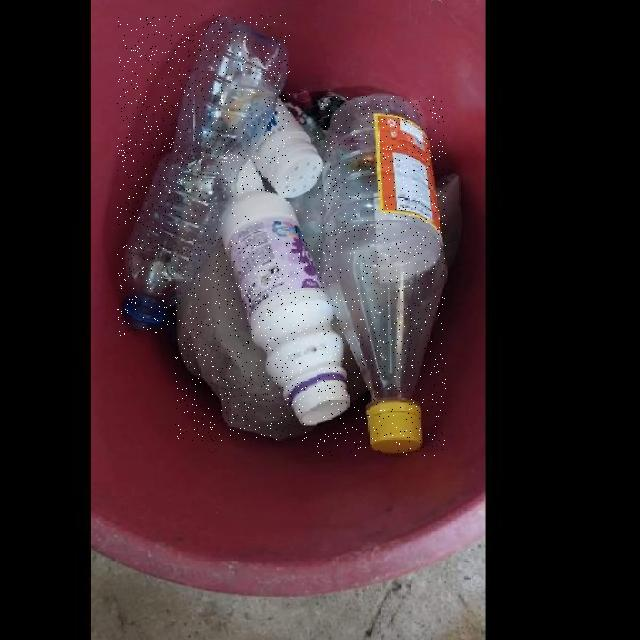plastic: (117, 15, 290, 336), (317, 96, 446, 456), (214, 193, 354, 424), (175, 238, 307, 441)
